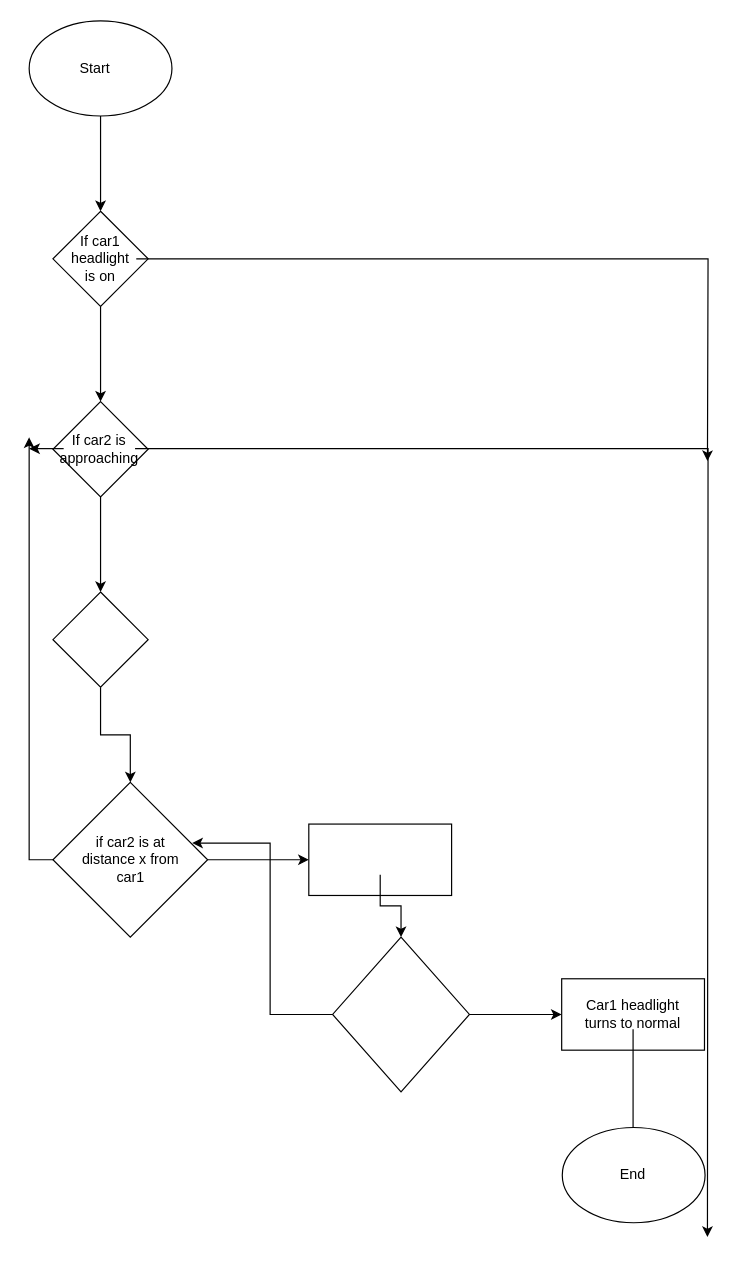
Image size: 739x1267. Some labels were removed from this diagram. Here are the shapes that lost their labels. From the top down, the centre of each, then its label:
At [100,639]: "If car2 headlight is on".
At [380,859]: "Deem light of car1".
At [400,1014]: "if car2 passes car1".
